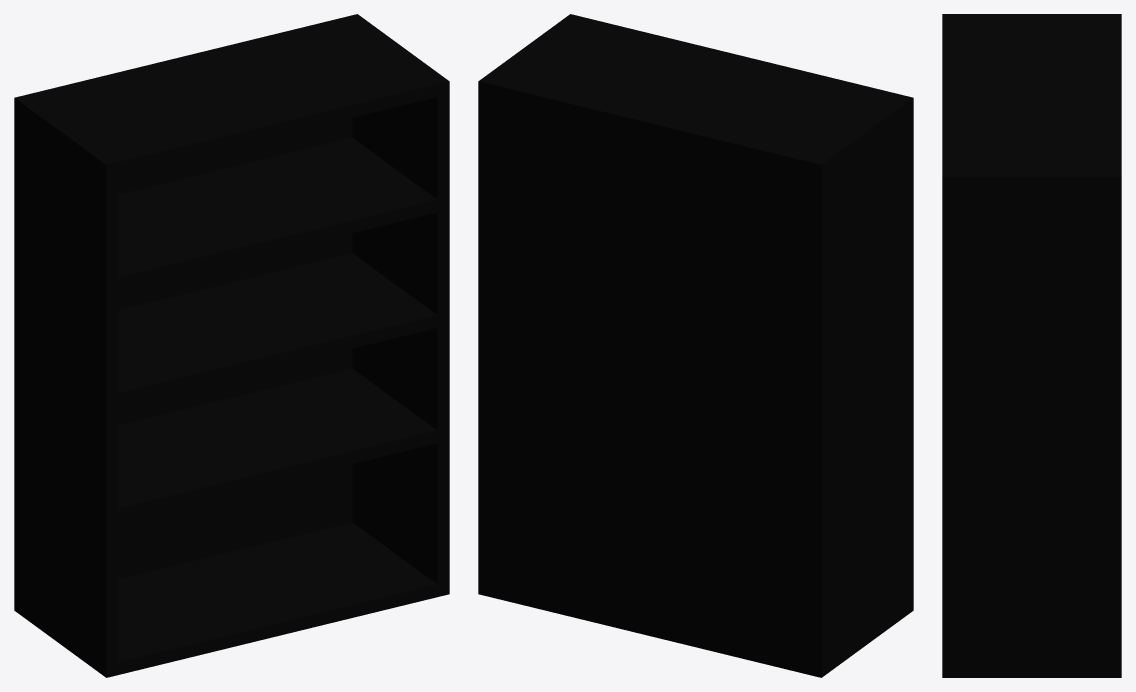
The model's file is cupboard.obj.
3 views of the same model, side by side, from view 1: azimuth 30°, elevation 25°; view 2: azimuth 150°, elevation 25°; view 3: azimuth 270°, elevation 25° (orthographic). The views are drawn at different scales.
Size of the model in its own units: 2.8 by 4 by 1.3.
